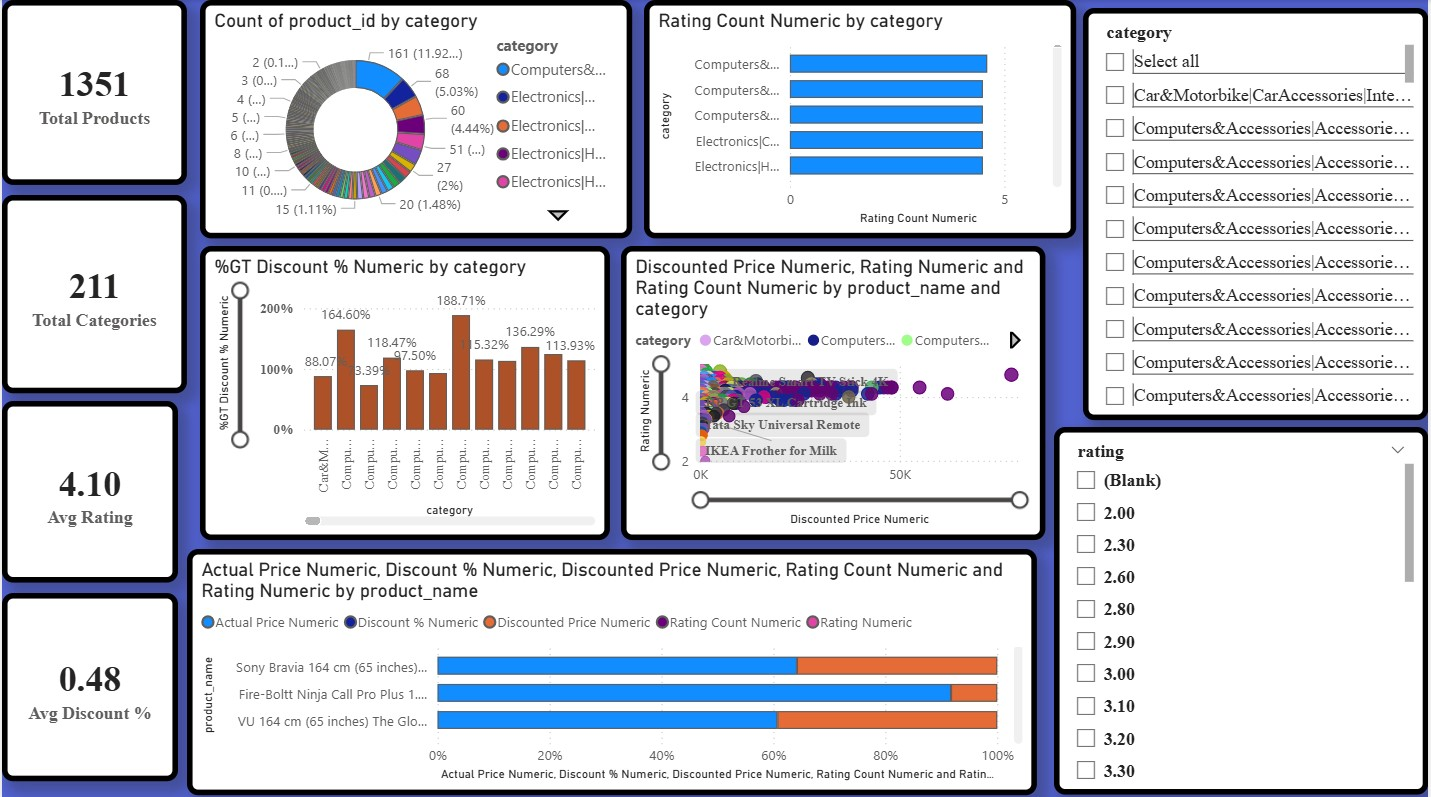

What the dashboard file says about the page in this screenshot:
{"tool":"powerbi","page":{"name":"Page 1","canvas":[1280,720],"ordinal":0},"visuals":[{"type":"card","fields":{"Values":["amazon.Total Products"]},"box":[0,0,165.9,165.9],"z":0},{"type":"card","fields":{"Values":["amazon.Total Categories"]},"box":[0,174.9,165.9,177.9],"z":1000},{"type":"card","fields":{"Values":["amazon.Avg Rating"]},"box":[0,359.7,157.9,162.9],"z":2000},{"type":"card","fields":{"Values":["amazon.Avg Discount %"]},"box":[0,532.6,157.9,168.9],"z":3000},{"type":"donutChart","fields":{"Category":["amazon.category"],"Y":["Count(amazon.product_id)"]},"box":[178,0,388.1,214],"z":4000},{"type":"clusteredBarChart","fields":{"Category":["amazon.category"],"Y":["amazon.Rating Count Numeric"]},"box":[576,0,388,214],"z":5000},{"type":"clusteredColumnChart","fields":{"Category":["amazon.category"],"Y":["amazon.Discount % Numeric"]},"box":[177.9,220.8,367.7,263.8],"z":6000},{"type":"scatterChart","fields":{"Y":["amazon.Rating Numeric"],"Size":["amazon.Rating Count Numeric"],"Series":["amazon.category"],"X":["amazon.Discounted Price Numeric"],"Category":["amazon.product_name"]},"box":[555.6,220.8,380.7,263.8],"z":7000},{"type":"hundredPercentStackedBarChart","fields":{"Category":["amazon.category","amazon.product_name"],"Y":["amazon.Actual Price Numeric","amazon.Discount % Numeric","amazon.Discounted Price Numeric","amazon.Rating Count Numeric","amazon.Rating Numeric"]},"box":[165.9,492.6,763.4,220.8],"z":7001},{"type":"slicer","fields":{"Values":["amazon.category"]},"box":[970.2,7,309.8,369.7],"z":7002},{"type":"slicer","fields":{"Values":["amazon.rating"]},"box":[944.3,383.7,335.7,329.7],"z":7003}]}

Visuals, with their boxes in screenshot pixels (x1, y1, x2, y2), scaled from the page's 1280x720 canvas onto the 1431x797 screenshot:
card - amazon.Total Products: <bbox>0, 0, 185, 184</bbox>
card - amazon.Total Categories: <bbox>0, 194, 185, 391</bbox>
card - amazon.Avg Rating: <bbox>0, 398, 177, 578</bbox>
card - amazon.Avg Discount %: <bbox>0, 590, 177, 777</bbox>
donutChart - amazon.category x Count(amazon.product_id): <bbox>199, 0, 633, 237</bbox>
clusteredBarChart - amazon.category x amazon.Rating Count Numeric: <bbox>644, 0, 1078, 237</bbox>
clusteredColumnChart - amazon.category x amazon.Discount % Numeric: <bbox>199, 244, 610, 536</bbox>
scatterChart - amazon.Rating Numeric x amazon.Rating Count Numeric: <bbox>621, 244, 1047, 536</bbox>
hundredPercentStackedBarChart - amazon.category x amazon.product_name: <bbox>185, 545, 1039, 790</bbox>
slicer - amazon.category: <bbox>1085, 8, 1430, 417</bbox>
slicer - amazon.rating: <bbox>1056, 425, 1430, 790</bbox>
